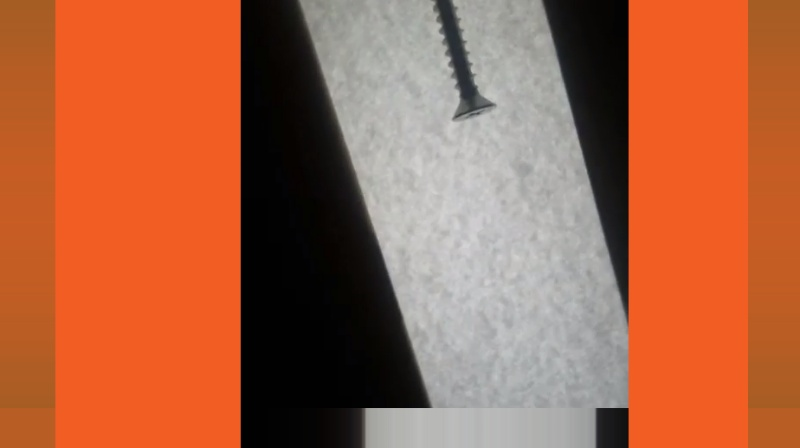S001: (425, 0, 500, 124)
